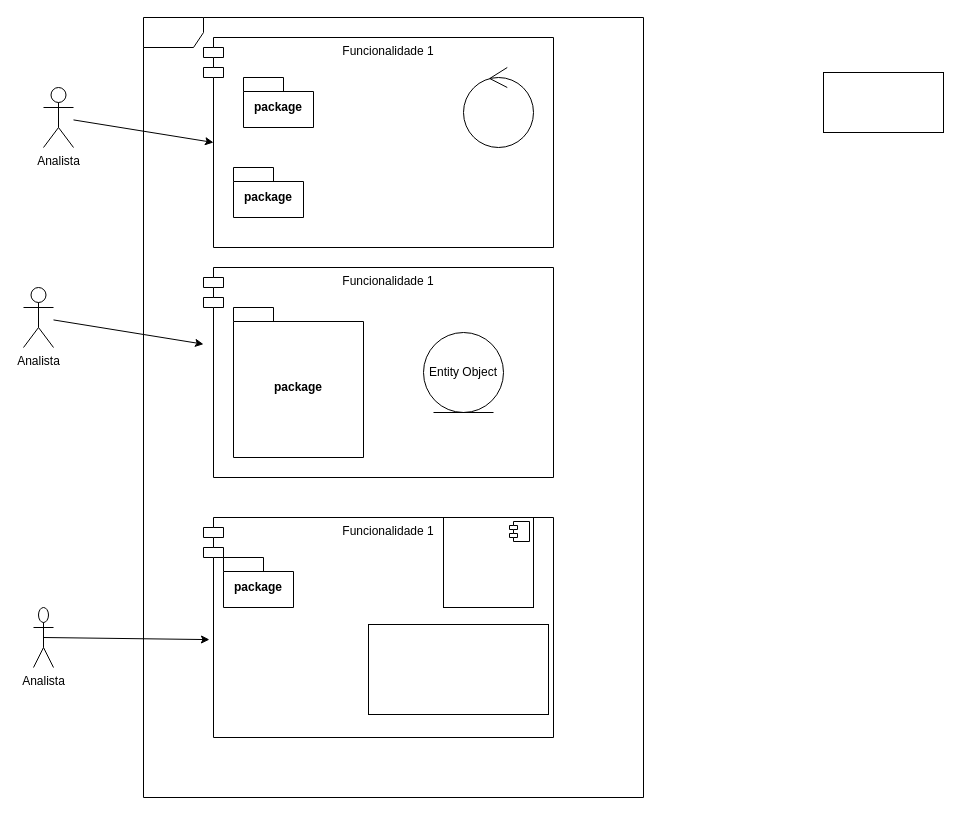
The diagram is 961 pixels wide and 815 high, and some of its shapes have lost their labels. The shapes that lost their labels are listed below. From the top down, each one's box as (x1, y1, x2, y2) in pixels, then its label:
(462, 66, 534, 148): Control Object
(822, 72, 944, 132): Cenario 4
(142, 16, 644, 798): frame
(442, 516, 534, 608): Component + Attribute1: Type + Attribute2: Type
(368, 624, 548, 714): Tablename PK uniqueId FK1 foreignKey fieldname
